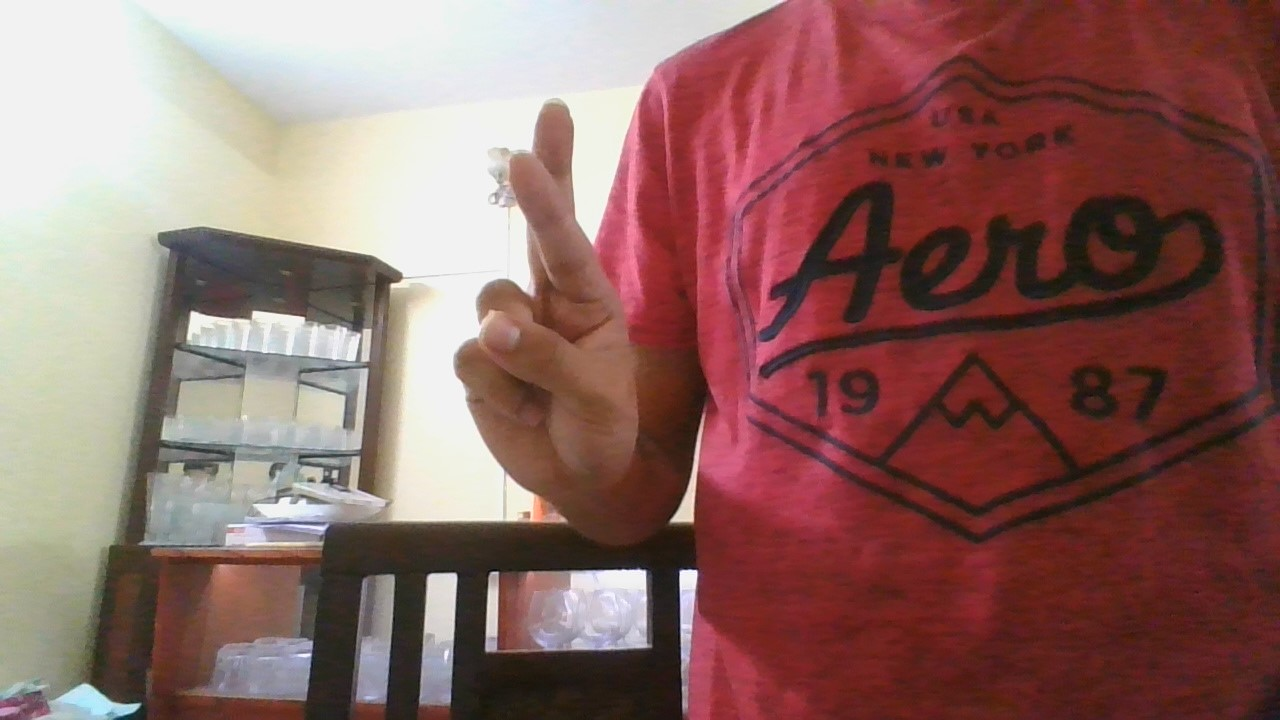r: (449, 91, 652, 505)
